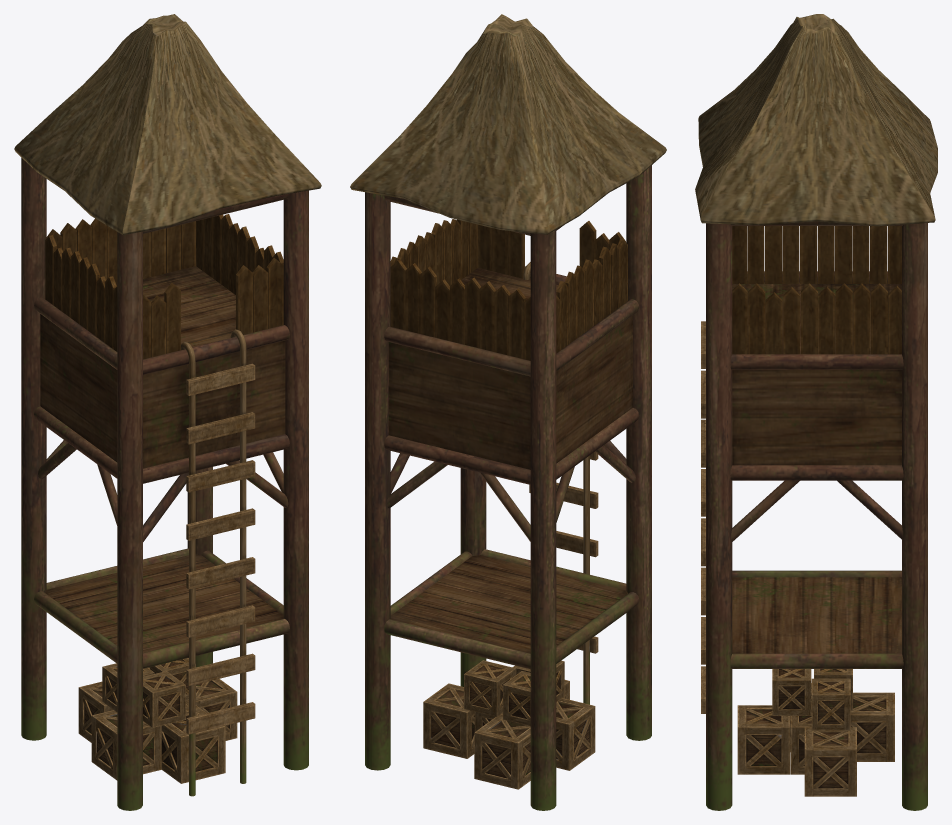
The model's file is sb_obj_outdoor008_PoorLookout01.fbx.
The picture shows the model from 3 angles, left to right: view 1: azimuth 30°, elevation 25°; view 2: azimuth 150°, elevation 25°; view 3: azimuth 270°, elevation 25°; orthographic projection. The views are drawn at different scales.
Visible parts, largest first — view 1: sb_obj_outdoor008_PoorLookout01; view 2: sb_obj_outdoor008_PoorLookout01; view 3: sb_obj_outdoor008_PoorLookout01.
Part boxes in pixels (x1,y1,x2,y2): sb_obj_outdoor008_PoorLookout01: (14, 14, 321, 810); sb_obj_outdoor008_PoorLookout01: (350, 14, 666, 810); sb_obj_outdoor008_PoorLookout01: (695, 14, 937, 810).
Bounding box in the file's own units: 3.03 × 10.07 × 2.98.
